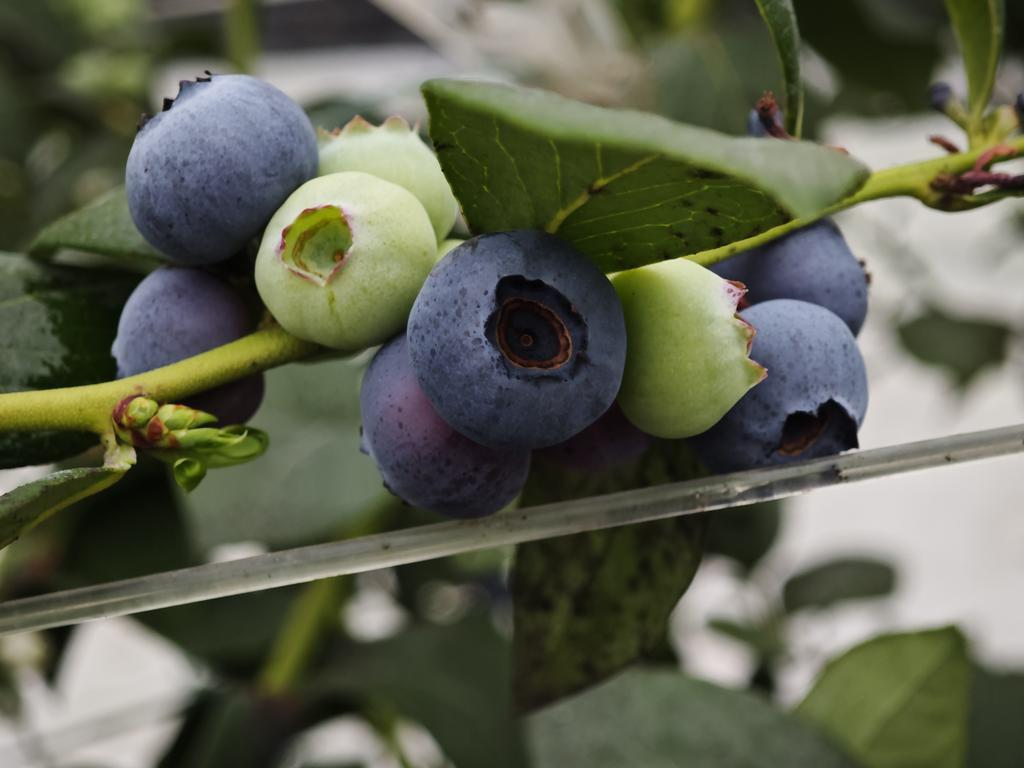RipeBlueBerry: (405, 227, 632, 454), (120, 70, 321, 269)
UnripeBlueBerry: (254, 170, 442, 354)
